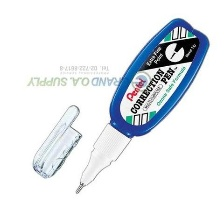correction_fluid: (73, 15, 210, 195)
